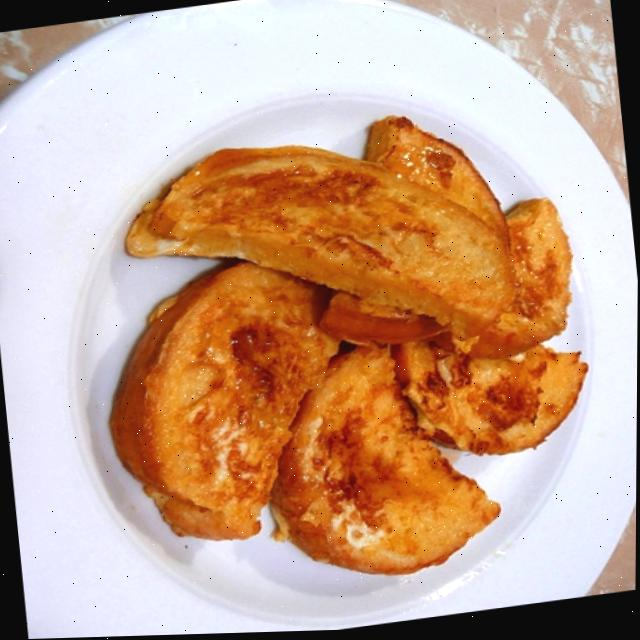面包点心: (60, 74, 631, 629)
